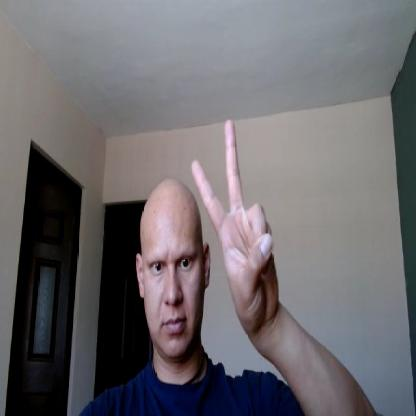V: (190, 116, 278, 326)
